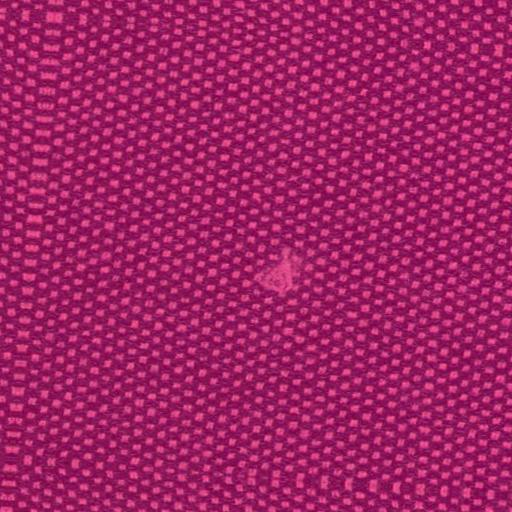knot: (243, 249, 302, 300)
